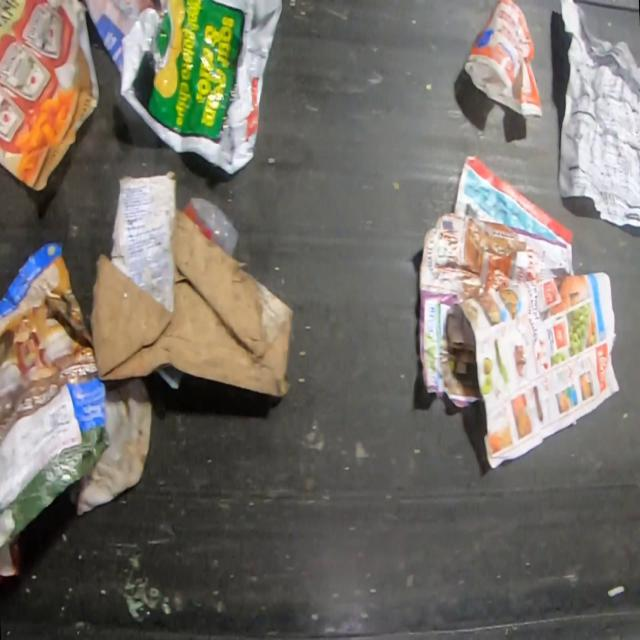cardboard: (92, 175, 294, 396)
rigid_plastic: (461, 0, 545, 119), (184, 196, 243, 257), (157, 364, 181, 390)
soft_plastic: (120, 0, 284, 178)
